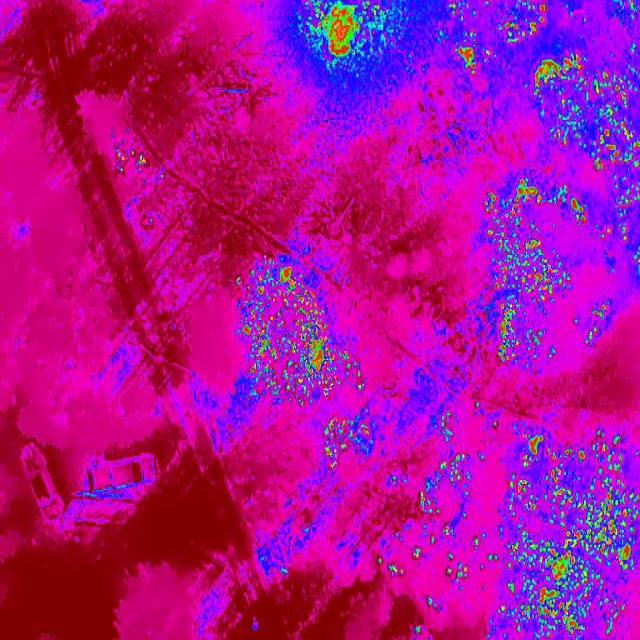fire: (493, 424, 640, 640), (232, 254, 374, 411), (528, 49, 640, 240), (484, 176, 572, 369), (294, 0, 429, 88), (442, 0, 556, 69), (416, 453, 482, 528), (320, 413, 378, 468), (582, 298, 614, 348), (444, 556, 468, 586)
